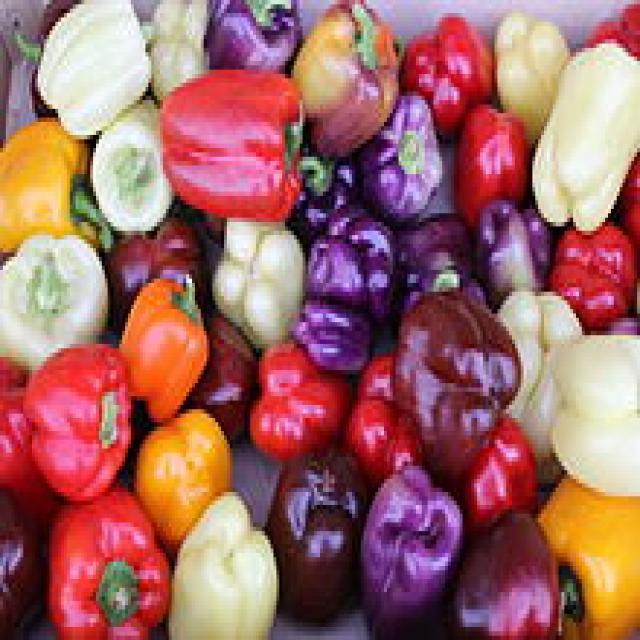bell pepper: (172, 90, 296, 210), (39, 21, 168, 136), (51, 494, 158, 628), (408, 298, 504, 444), (546, 52, 621, 222), (548, 346, 640, 477), (10, 247, 114, 357), (29, 365, 124, 474), (3, 134, 97, 238), (306, 13, 384, 138), (187, 528, 270, 639), (222, 227, 297, 340), (372, 493, 436, 613), (476, 523, 540, 640), (130, 292, 197, 391), (385, 120, 443, 218), (265, 350, 315, 443)
